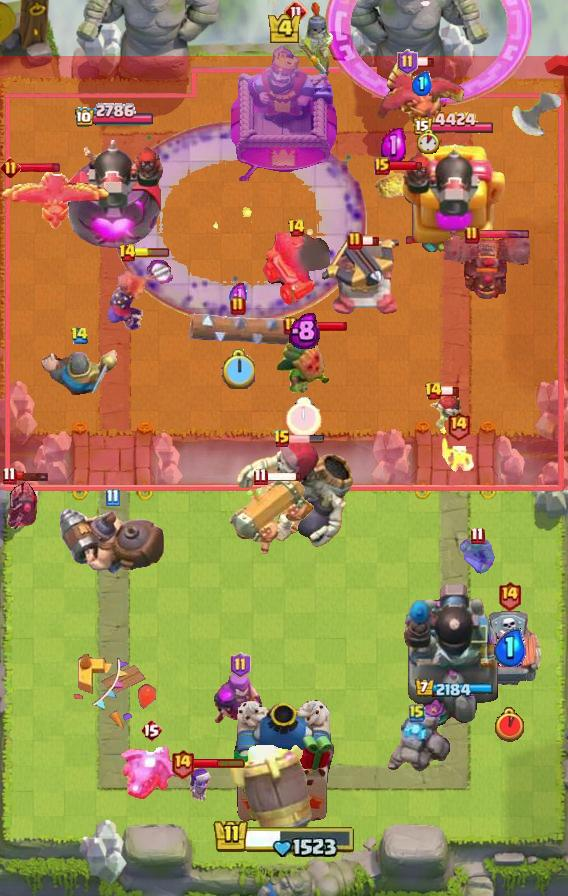archer-evolution: (436, 232, 530, 302)
battle-healer: (227, 475, 317, 557)
battle-ram: (0, 479, 42, 533)
clock: (212, 815, 356, 857)
electro-giant: (235, 437, 357, 549)
electro-spirit: (493, 628, 526, 667), (288, 312, 319, 349), (382, 128, 406, 163), (228, 282, 248, 310), (412, 71, 433, 97)
elixir: (286, 398, 322, 439), (221, 349, 255, 389), (495, 707, 524, 742), (416, 129, 439, 154)
elixir-golem-mid: (474, 610, 544, 696)
emote: (10, 161, 61, 175), (193, 757, 247, 769), (296, 320, 348, 332), (478, 229, 530, 240), (265, 470, 303, 482), (387, 160, 423, 172), (14, 470, 50, 482), (134, 248, 170, 258), (289, 434, 325, 444), (415, 56, 435, 68), (360, 235, 380, 247), (440, 385, 460, 397)
firecracker: (36, 349, 122, 401)
goblin: (188, 767, 214, 803)
goblin-barrel: (275, 326, 333, 396)
golden-knight: (0, 166, 110, 232)
graveyard: (117, 744, 185, 800)
heal-spirit: (440, 436, 476, 474)
ice-golem: (427, 393, 465, 439)
ice-spirit-evolution: (373, 169, 413, 205)
king-tower: (231, 45, 337, 181), (234, 700, 334, 826)
knight-evolution: (324, 0, 532, 108)
lava-pup: (322, 238, 404, 318)
minion: (185, 313, 291, 349)
mother-witch: (373, 63, 469, 131)
princess: (285, 0, 335, 76)
rascal-girl: (213, 670, 267, 728)
rocket: (111, 120, 367, 324)
royal-giant: (512, 90, 568, 146)
royal-giant-evolution: (262, 233, 330, 307)
selected: (413, 111, 496, 138), (73, 103, 154, 129), (414, 679, 494, 699)
tesla-evolution: (104, 258, 173, 332)
text: (497, 581, 522, 612), (170, 749, 195, 780), (446, 410, 470, 441), (284, 0, 308, 24), (398, 49, 419, 75), (229, 652, 250, 678), (140, 718, 162, 742), (0, 157, 20, 179), (118, 243, 138, 263), (287, 218, 306, 238), (425, 381, 444, 401), (70, 327, 90, 345), (273, 429, 291, 449), (464, 225, 480, 245), (347, 231, 363, 251), (230, 296, 246, 316), (283, 316, 299, 336), (409, 703, 425, 723), (374, 157, 390, 175), (470, 526, 485, 545), (3, 467, 18, 485), (252, 467, 267, 485), (105, 489, 119, 508)
tower-bar: (402, 579, 504, 731), (60, 132, 167, 256), (399, 138, 507, 256)
valkyrie-evolution: (384, 716, 450, 778)
wizard: (56, 506, 168, 576)
x-bow: (229, 745, 314, 844)
zap: (458, 533, 496, 575)
